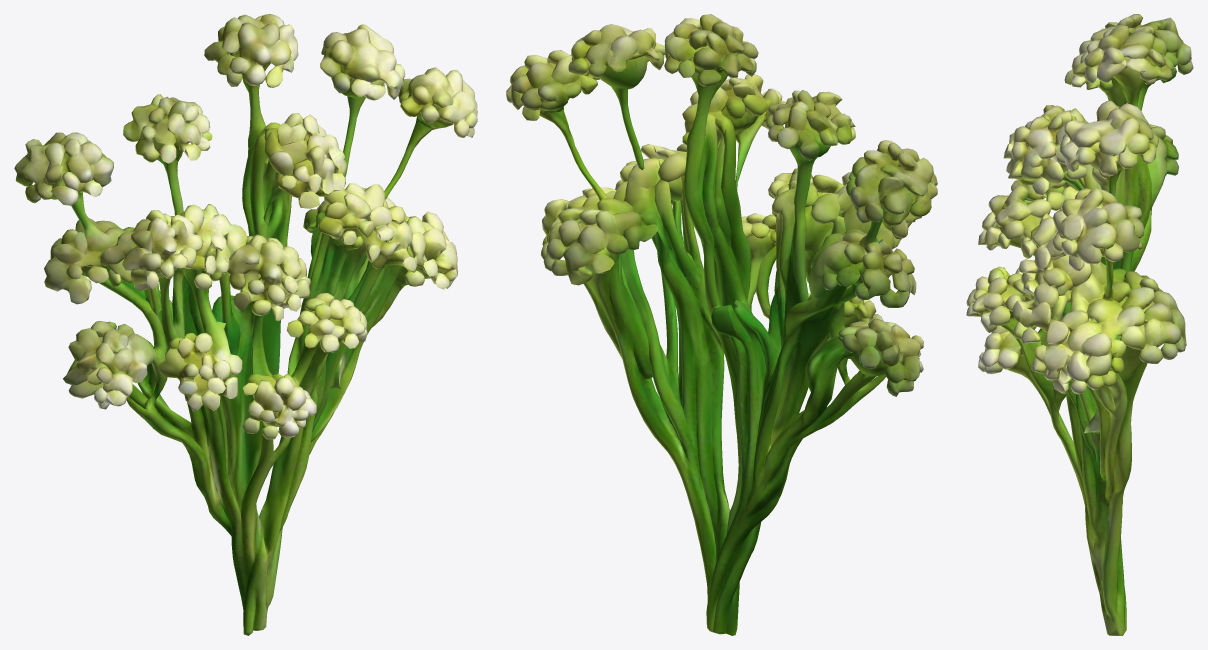
The model's file is babys_breath.glb.
The picture shows the model from 3 angles, left to right: view 1: azimuth 30°, elevation 25°; view 2: azimuth 150°, elevation 25°; view 3: azimuth 270°, elevation 25°; orthographic projection.
Visible parts, largest first — view 1: model; view 2: model; view 3: model.
Boxes of the visible parts, bbox=[...] form: model: bbox=[14, 14, 477, 635]; model: bbox=[506, 14, 937, 635]; model: bbox=[966, 14, 1193, 635].
Bounding box in the file's own units: 1.4 × 1.89 × 0.6414.
1 material, 1 textured.
